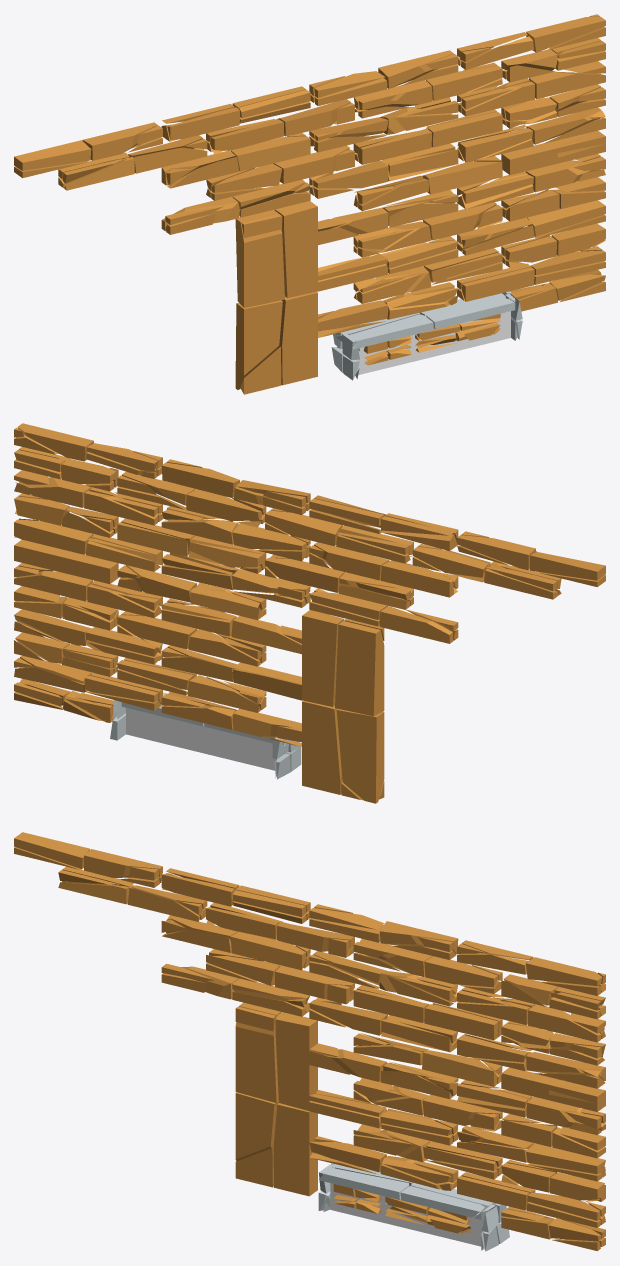
File: tv wall and tv table ORIGIN.fbx
3 renders of one model, top to bottom at view 1: azimuth 30°, elevation 25°; view 2: azimuth 150°, elevation 25°; view 3: azimuth 330°, elevation 25°, orthographic.
Visible parts, largest first — view 1: group1722554482_cell.173, group1722554482_cell.218, group1722554482_cell.216, group1722554482_cell.220, group1722554482_cell.253, group1722554482_cell.141, group1722554482_cell.305, group1722554482_cell.196, group1722554482_cell.273, group1722554482_cell.041, group1722554482_cell.169, group1722554482_cell.054 (+61 smaller); view 2: group1722554482_cell.173, group1722554482_cell.254, group1722554482_cell.220, group1722554482_cell.218, group1722554482_cell.216, group1722554482_cell.423, group1722554482_cell.139, group1722554482_cell.076, group1722554482_cell.128, group1722554482_cell.118, group1722554482_cell.222, group1722554482_cell.440 (+56 smaller); view 3: group1722554482_cell.216, group1722554482_cell.218, group1722554482_cell.173, group1722554482_cell.253, group1722554482_cell.220, group1722554482_cell.141, group1722554482_cell.305, group1722554482_cell.196, group1722554482_cell.041, group1722554482_cell.390, group1722554482_cell.273, group1722554482_cell.016 (+59 smaller).
Boxes of the visible parts, left/top/right/bottom form: group1722554482_cell.173: left=235, top=210, right=284, bottom=307; group1722554482_cell.218: left=275, top=201, right=317, bottom=297; group1722554482_cell.216: left=282, top=293, right=317, bottom=384; group1722554482_cell.220: left=235, top=301, right=282, bottom=389; group1722554482_cell.253: left=356, top=311, right=510, bottom=374; group1722554482_cell.141: left=231, top=136, right=310, bottom=171; group1722554482_cell.305: left=423, top=161, right=502, bottom=194; group1722554482_cell.196: left=428, top=111, right=502, bottom=147; group1722554482_cell.273: left=345, top=314, right=433, bottom=349; group1722554482_cell.041: left=426, top=66, right=502, bottom=100; group1722554482_cell.169: left=14, top=140, right=91, bottom=170; group1722554482_cell.054: left=358, top=128, right=431, bottom=164; group1722554482_cell.173: left=335, top=621, right=384, bottom=716; group1722554482_cell.254: left=126, top=707, right=276, bottom=770; group1722554482_cell.220: left=336, top=710, right=384, bottom=803; group1722554482_cell.218: left=302, top=610, right=343, bottom=706; group1722554482_cell.216: left=302, top=701, right=340, bottom=794; group1722554482_cell.423: left=14, top=519, right=92, bottom=554; group1722554482_cell.139: left=380, top=560, right=453, bottom=597; group1722554482_cell.076: left=161, top=462, right=239, bottom=497; group1722554482_cell.128: left=265, top=557, right=343, bottom=592; group1722554482_cell.118: left=265, top=510, right=342, bottom=546; group1722554482_cell.222: left=117, top=615, right=196, bottom=649; group1722554482_cell.440: left=14, top=545, right=109, bottom=584; group1722554482_cell.216: left=273, top=1104, right=317, bottom=1196; group1722554482_cell.218: left=275, top=1012, right=317, bottom=1110; group1722554482_cell.173: left=235, top=1002, right=280, bottom=1102; group1722554482_cell.253: left=330, top=1183, right=482, bottom=1246; group1722554482_cell.220: left=235, top=1093, right=274, bottom=1158; group1722554482_cell.141: left=230, top=932, right=306, bottom=970; group1722554482_cell.305: left=422, top=1050, right=497, bottom=1086; group1722554482_cell.196: left=424, top=1004, right=498, bottom=1040; group1722554482_cell.041: left=424, top=956, right=497, bottom=987; group1722554482_cell.390: left=526, top=1143, right=605, bottom=1174; group1722554482_cell.273: left=319, top=1167, right=408, bottom=1199; group1722554482_cell.016: left=526, top=957, right=602, bottom=986.
Bounding box in the file's own units: 79 × 37 × 5.
